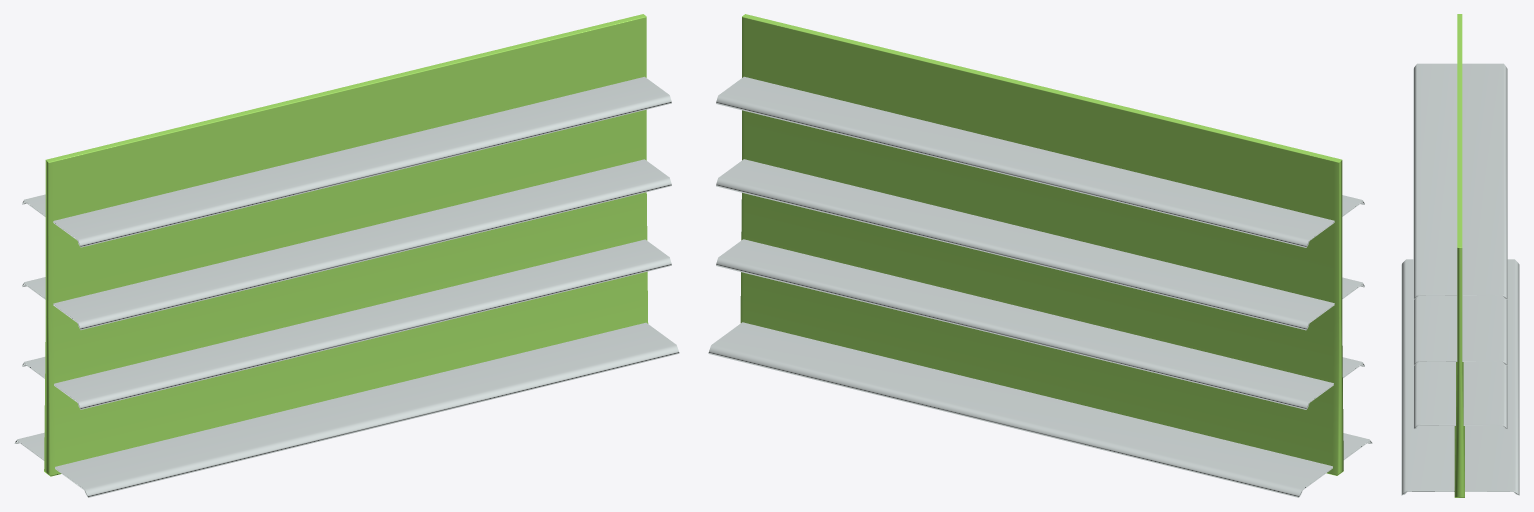
File: Shelf.fbx
3 views of the same model, side by side, from view 1: azimuth 30°, elevation 25°; view 2: azimuth 150°, elevation 25°; view 3: azimuth 270°, elevation 25° (orthographic). The views are drawn at different scales.
Parts seen in each view (by area): view 1: Cube.005; view 2: Cube.005; view 3: Cube.005.
Part boxes in pixels (left/top/right/bottom): Cube.005: left=14, top=14, right=679, bottom=497; Cube.005: left=708, top=14, right=1372, bottom=497; Cube.005: left=1401, top=14, right=1519, bottom=497.
Bounding box in the file's own units: 981 × 491 × 210.
